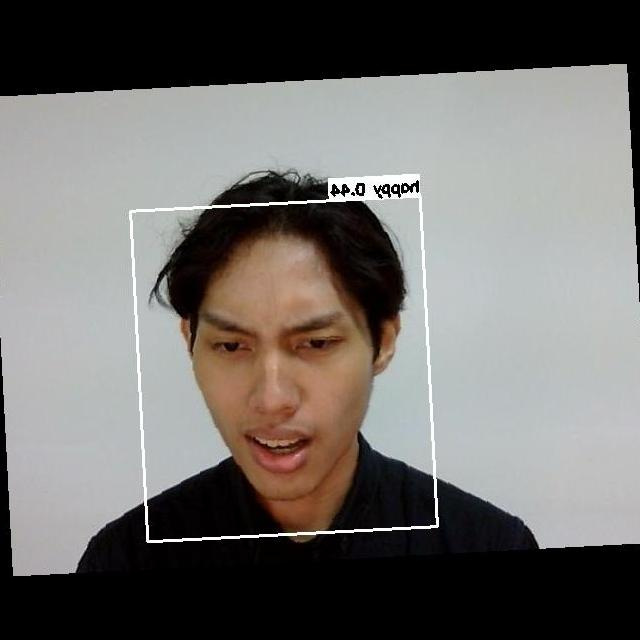Angry: (174, 292, 386, 484)
